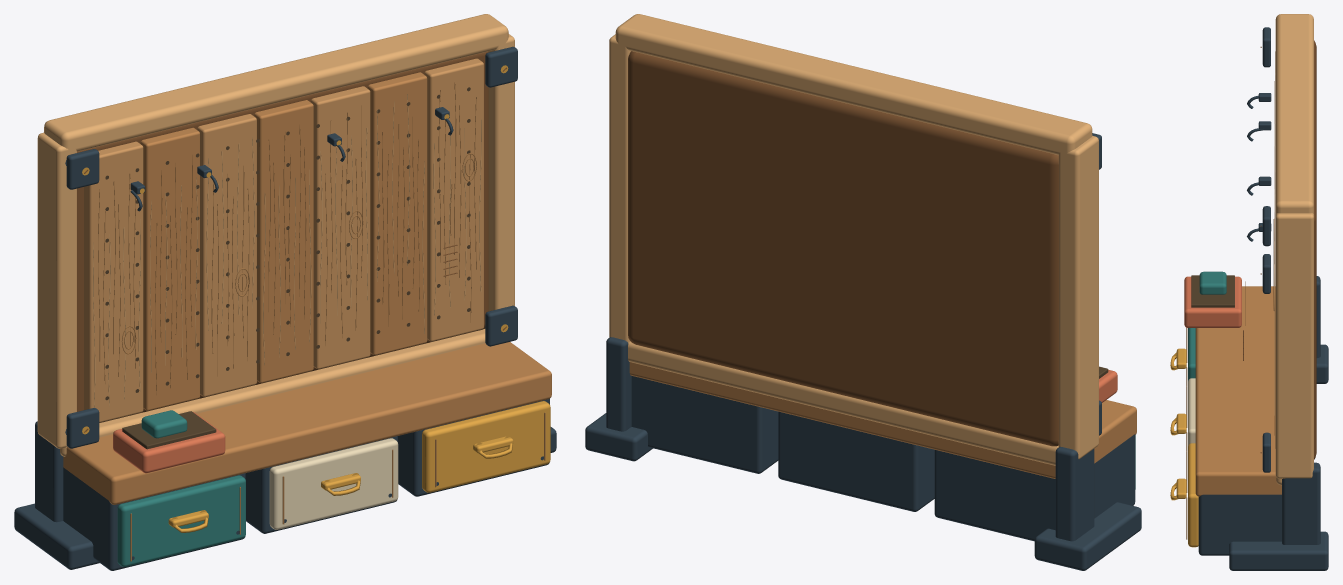
File: workshop-tool-rack-high-base.glb
The picture shows the model from 3 angles, left to right: view 1: azimuth 30°, elevation 25°; view 2: azimuth 150°, elevation 25°; view 3: azimuth 270°, elevation 25°; orthographic projection. The views are drawn at different scales.
Visible parts, largest first — view 1: timber, plank, edge, navy, brass, grain, teal, cream, grainLight, darkWood, shadow, coral; view 2: darkWood, edge, navy, timber; view 3: edge, timber, navy, brass, coral, darkWood, teal, shadow, grain, cream, plank.
Part boxes in pixels (x1,y1,x2,y2): timber: (63,72,551,504); plank: (84,58,483,422); edge: (37,14,514,456); navy: (14,46,556,570); brass: (82,65,550,532); grain: (98,82,545,561); teal: (117,410,245,566); cream: (269,438,398,529); grainLight: (93,94,481,407); darkWood: (77,51,506,432); shadow: (105,87,470,449); coral: (113,412,225,473); darkWood: (628,51,1058,446); edge: (609,14,1098,465); navy: (585,133,1141,570); timber: (629,362,1136,478); edge: (1275,14,1313,485); timber: (1195,75,1281,496); navy: (1198,27,1328,570); brass: (1170,348,1198,547); coral: (1184,276,1241,327); darkWood: (1243,40,1316,459); teal: (1188,271,1226,380); shadow: (1191,275,1234,307); grain: (1186,81,1274,539); cream: (1188,378,1195,445); plank: (1275,51,1275,448).
Bounding box in the file's own units: 1.54 × 1.25 × 0.4932.
